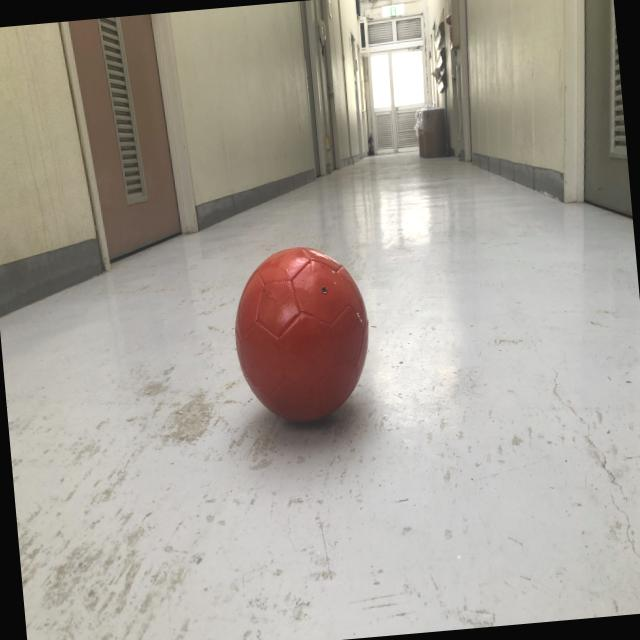red_ball: (228, 241, 378, 431)
